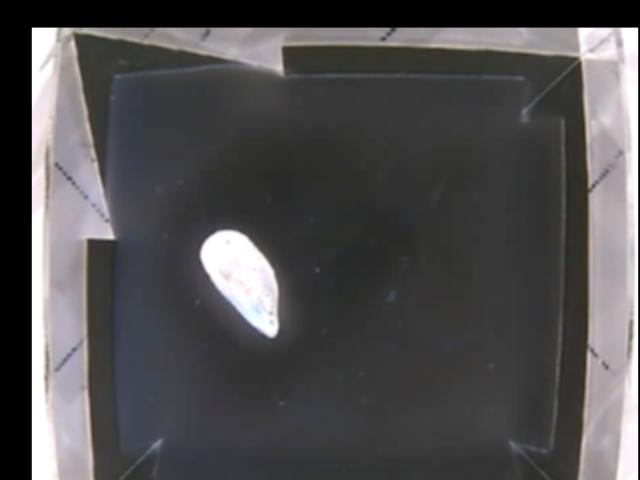Shell: (200, 229, 280, 337)
